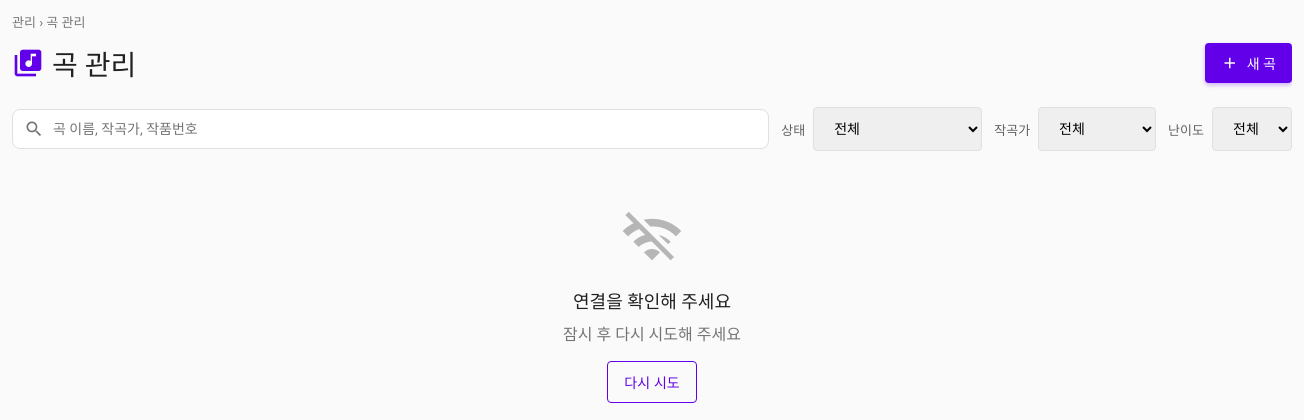
Scenario: WorkAdminListPage — 로딩·실패·빈 상태 › 불러오기 실패 → '연결을 확인해 주세요' + '다시 시도' 로 재요청
Click the button "다시 시도": (652, 382) [607,361,697,403]
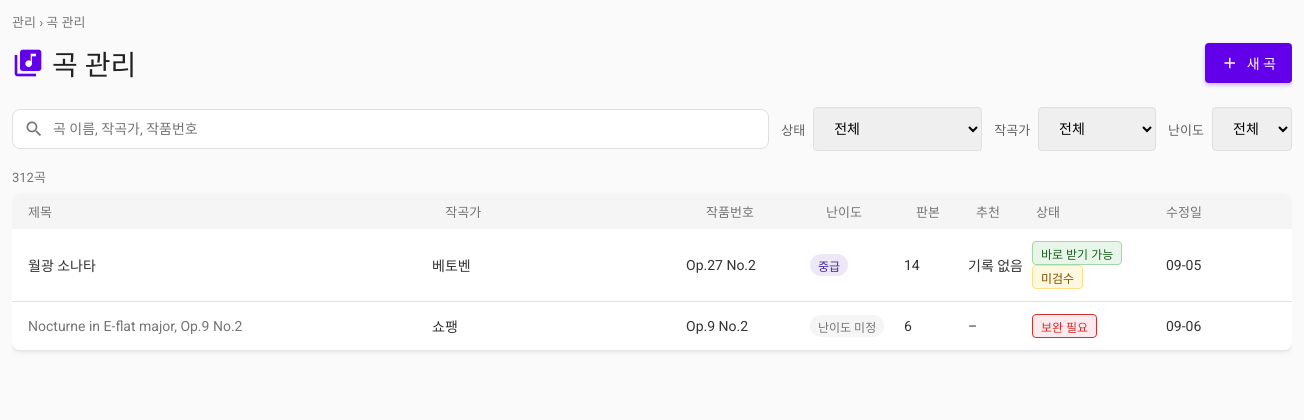
Expected: the text "월광 소나타" is shown, [28,258,96,274]
Expected: the text "연결을 확인해 주세요" is gone
